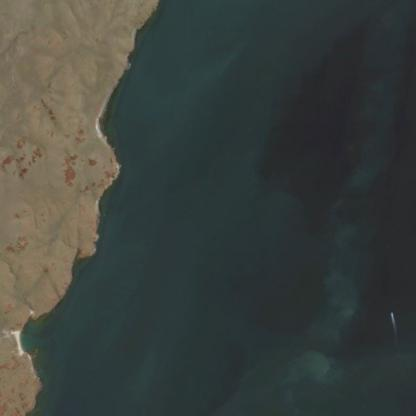ship: (385, 306, 401, 325)
